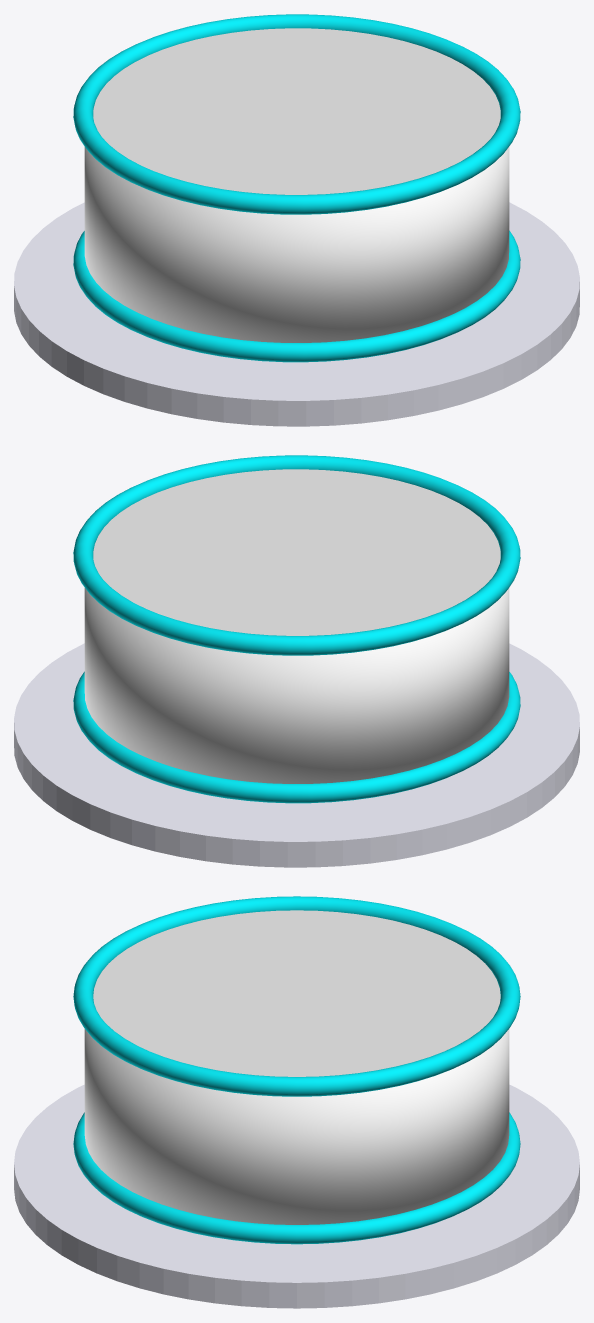
Rendered from round_vanilla_image.glb.
3 renders of one model, top to bottom at view 1: azimuth 30°, elevation 25°; view 2: azimuth 150°, elevation 25°; view 3: azimuth 270°, elevation 25°, orthographic.
Parts seen in each view (by area): view 1: CakeBase, CakeTopImage, IcingStand, IcingRing, IcingRing.001; view 2: CakeBase, CakeTopImage, IcingStand, IcingRing, IcingRing.001; view 3: CakeBase, CakeTopImage, IcingStand, IcingRing, IcingRing.001.
Boxes of the visible parts, <box> form: CakeBase: <box>84,147,509,342</box>; CakeTopImage: <box>93,28,500,194</box>; IcingStand: <box>14,202,579,426</box>; IcingRing: <box>73,14,520,214</box>; IcingRing.001: <box>73,230,520,362</box>; CakeBase: <box>84,588,509,783</box>; CakeTopImage: <box>93,469,500,635</box>; IcingStand: <box>14,643,579,867</box>; IcingRing: <box>73,455,520,655</box>; IcingRing.001: <box>73,671,520,803</box>; CakeBase: <box>84,1029,509,1224</box>; CakeTopImage: <box>93,910,500,1076</box>; IcingStand: <box>14,1084,579,1308</box>; IcingRing: <box>73,896,520,1096</box>; IcingRing.001: <box>73,1112,520,1244</box>.
Bounding box in the file's own units: 4 × 1.57 × 4.
